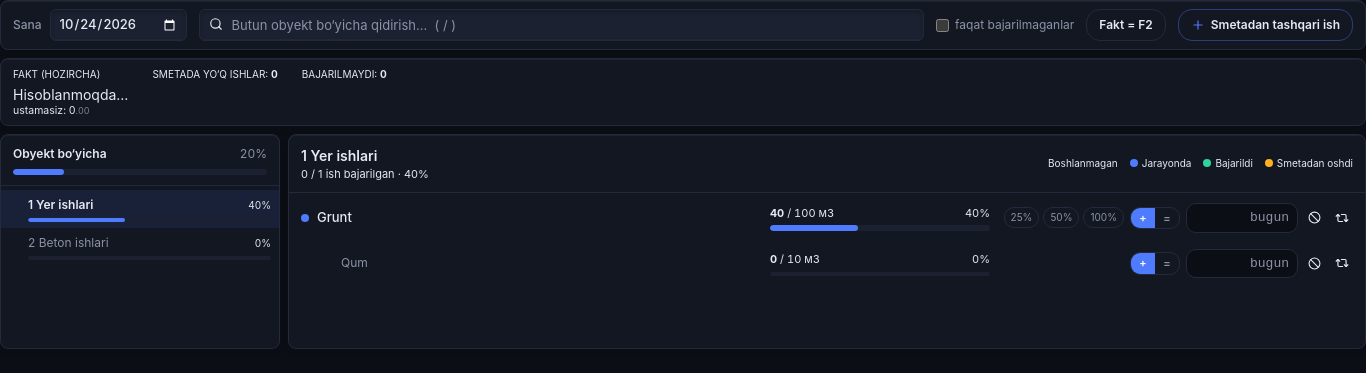
FaktJurnal › boshqa bo‘lim tanlanadi; qidiruv butun obyekt bo‘yicha
This screenshot has width=1366, height=373.
Expected: the text "Poydevor" is not shown
Click the button "2 Beton ishlari 0%": (150, 247) [28, 228, 271, 266]
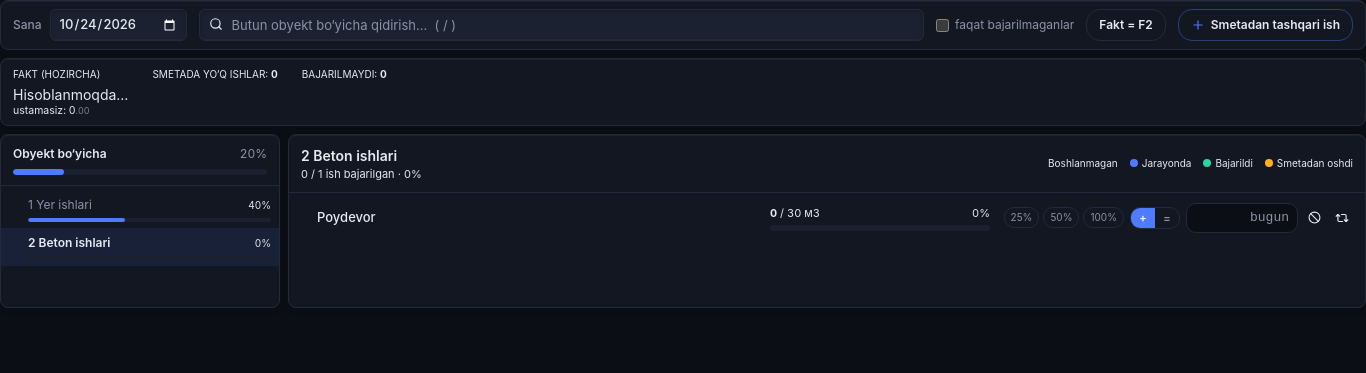
Result: the text "Poydevor" is shown at [317, 208, 376, 228]
In the field labelled "qidirish": (561, 25) [199, 9, 924, 41], type "qum"
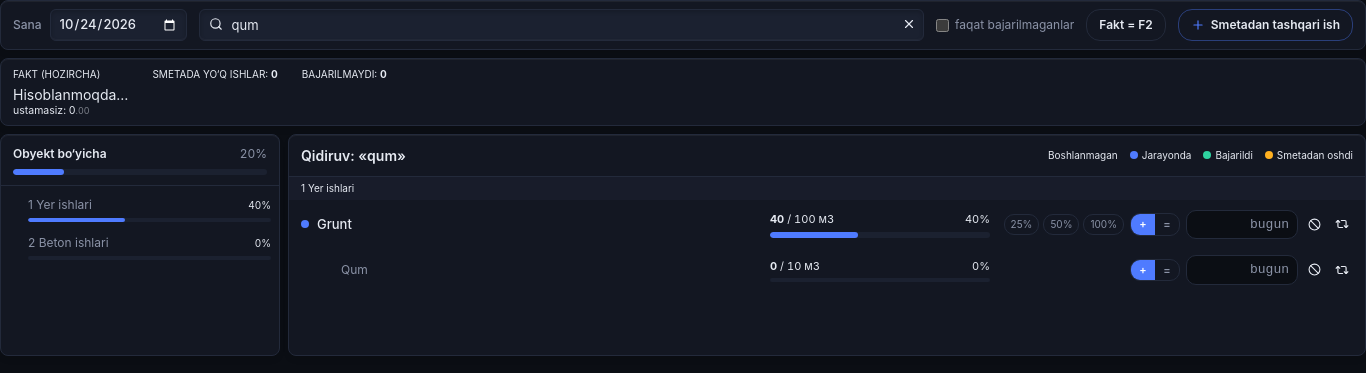
Result: the text "Qum" is shown at [341, 261, 368, 279]
